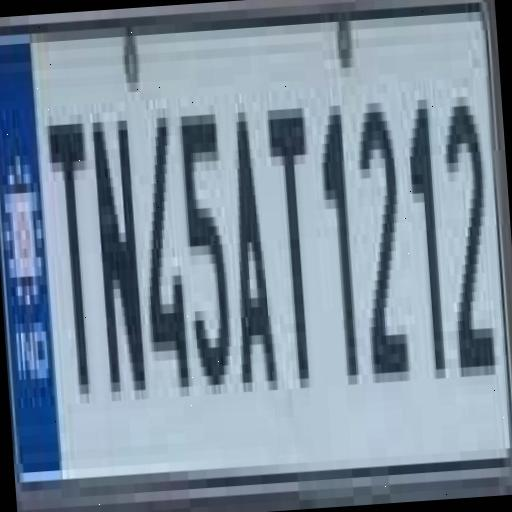number plate: (0, 3, 506, 512)
